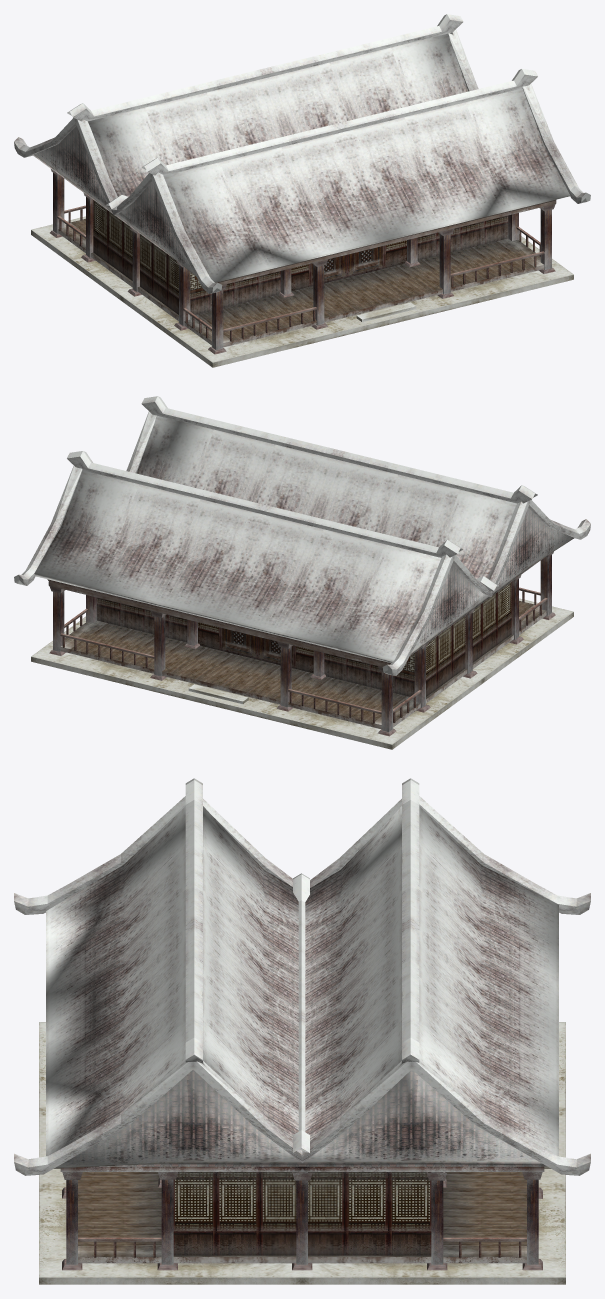
The model's file is snow-033-guesthouse-01.fbx.
3 views of the same model, one above another, from view 1: azimuth 30°, elevation 25°; view 2: azimuth 150°, elevation 25°; view 3: azimuth 270°, elevation 25° (orthographic). The views are drawn at different scales.
Visible parts, largest first — view 1: snow-033-guesthouse-01, snow-033-guesthouse-02; view 2: snow-033-guesthouse-01, snow-033-guesthouse-02; view 3: snow-033-guesthouse-01, snow-033-guesthouse-02.
Boxes of the visible parts, x1,y1,x2,y2 form: snow-033-guesthouse-01: (14,14,590,354); snow-033-guesthouse-02: (31,173,573,367); snow-033-guesthouse-01: (14,396,590,736); snow-033-guesthouse-02: (31,555,573,749); snow-033-guesthouse-01: (14,778,590,1270); snow-033-guesthouse-02: (39,1022,565,1284).
Bounding box in the file's own units: 20.25 × 8.48 × 17.86.
